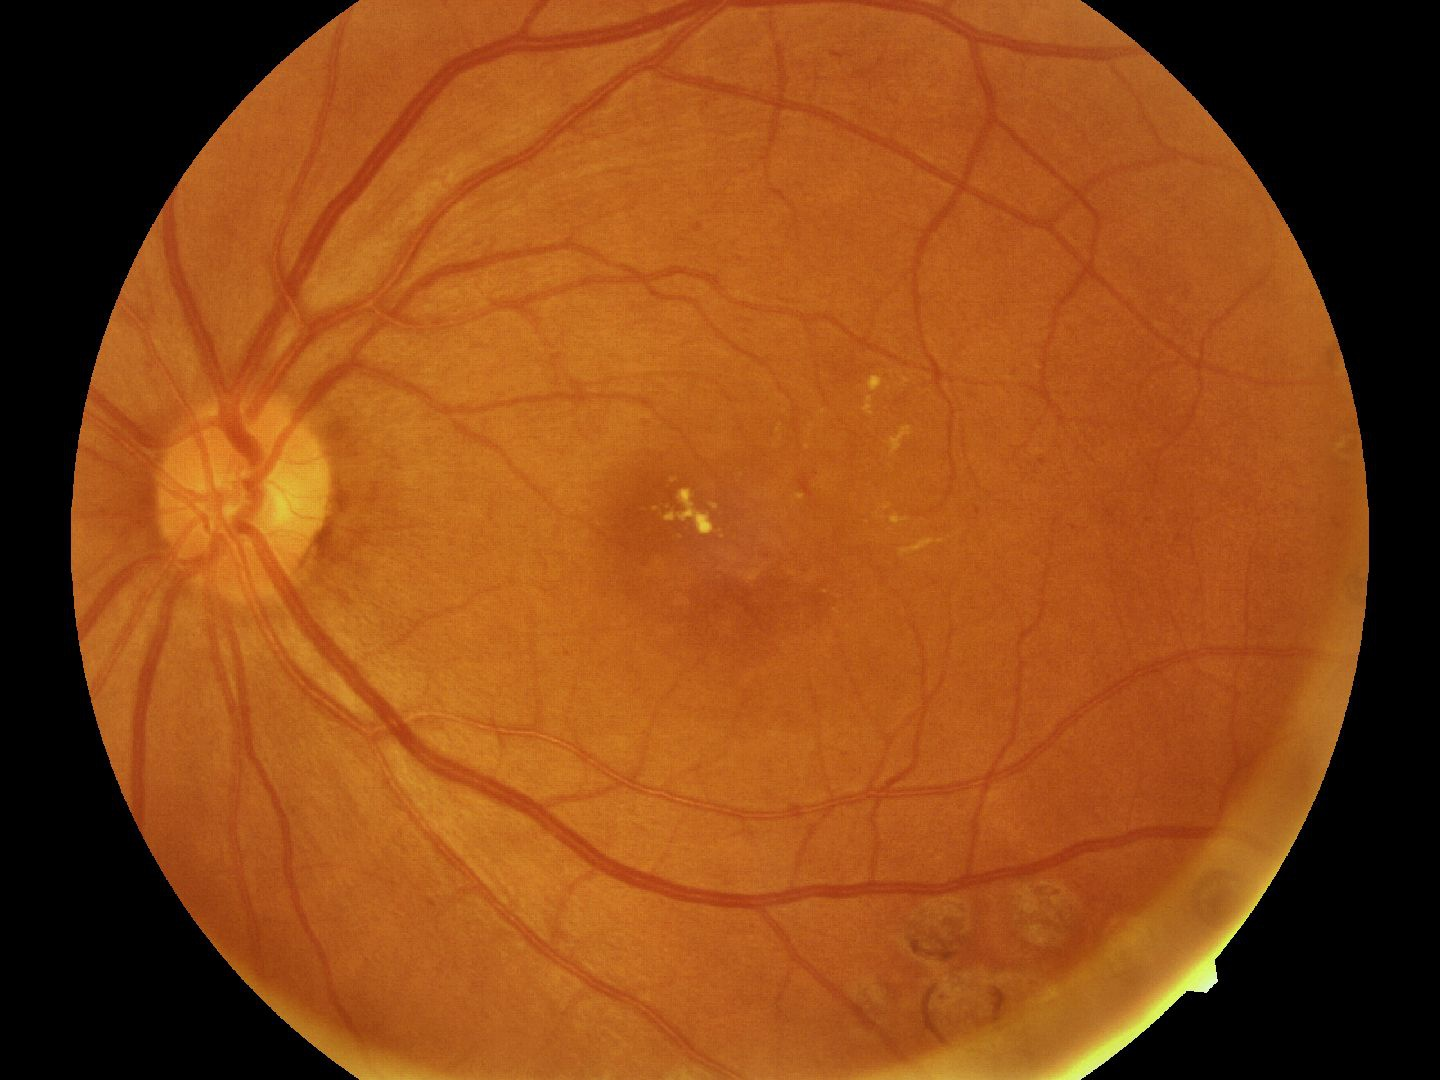Exudates: (859, 377, 957, 476), (646, 463, 739, 548)
Optic-Disc: (151, 379, 339, 617)
Venules: (294, 119, 448, 358), (449, 754, 691, 902)
